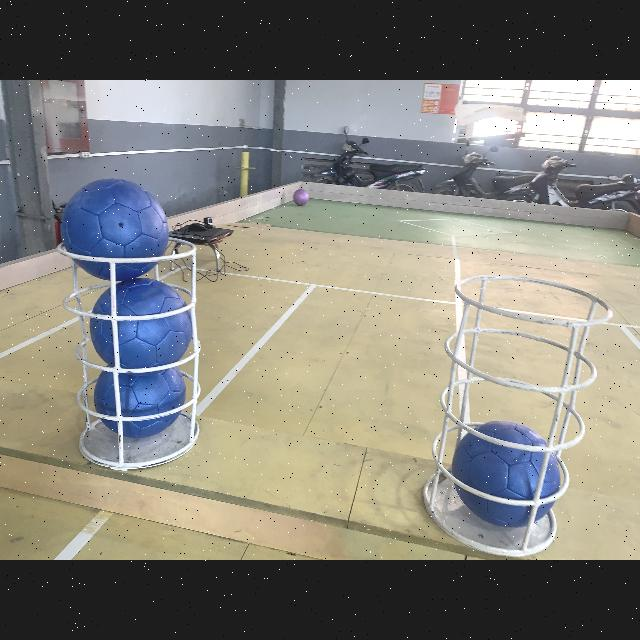B: (451, 421, 561, 524), (59, 180, 167, 280), (90, 277, 190, 368), (94, 364, 184, 436)
